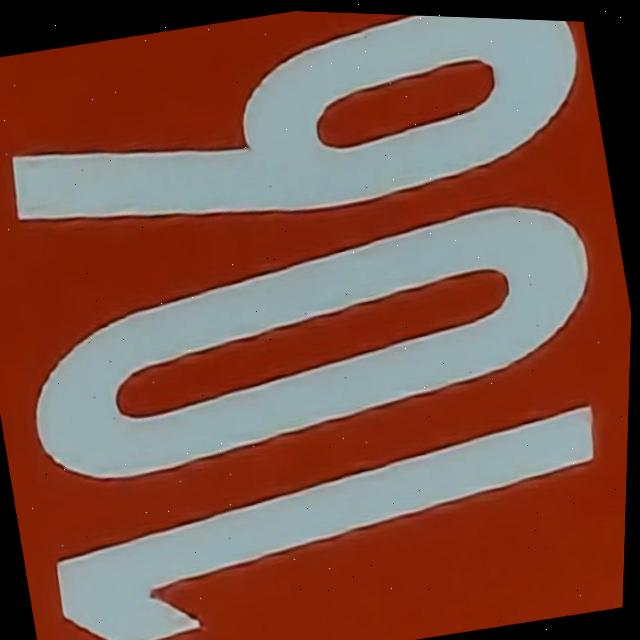character: (0, 160, 627, 521), (0, 0, 607, 281), (29, 368, 629, 640)
